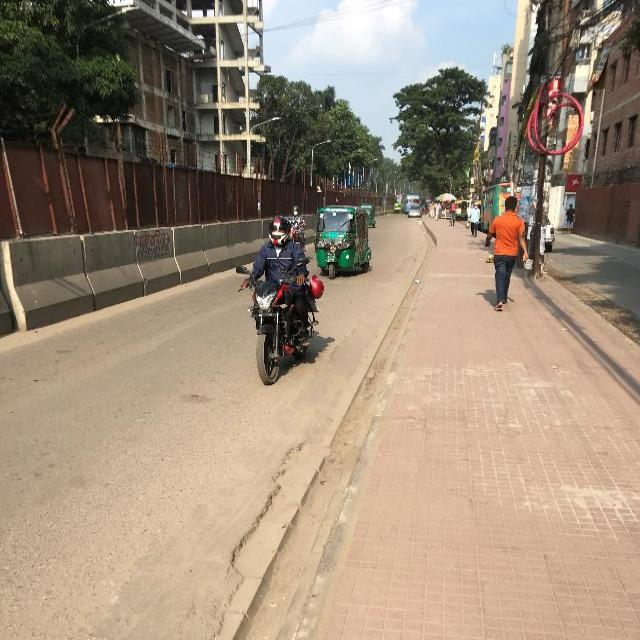bus: (455, 200, 468, 218)
car: (408, 202, 421, 217)
motorcycle: (224, 263, 324, 384), (314, 205, 370, 278), (361, 202, 374, 225)
truck: (393, 194, 400, 212)
